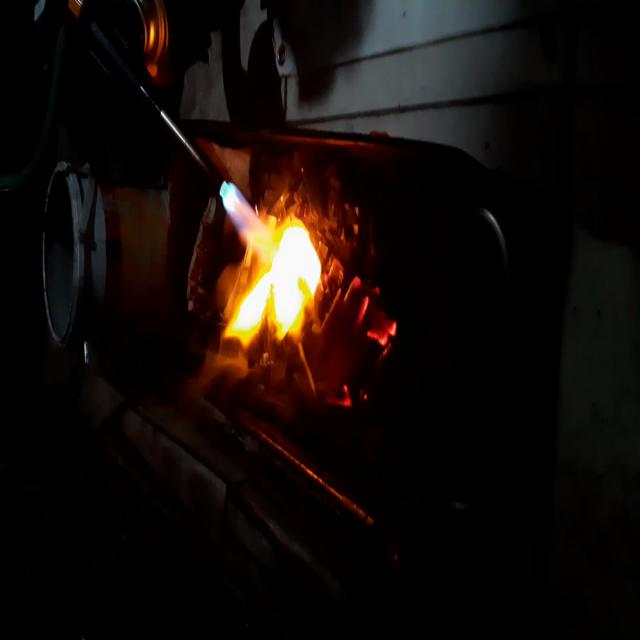Fire: (217, 166, 325, 358), (316, 260, 400, 414)
